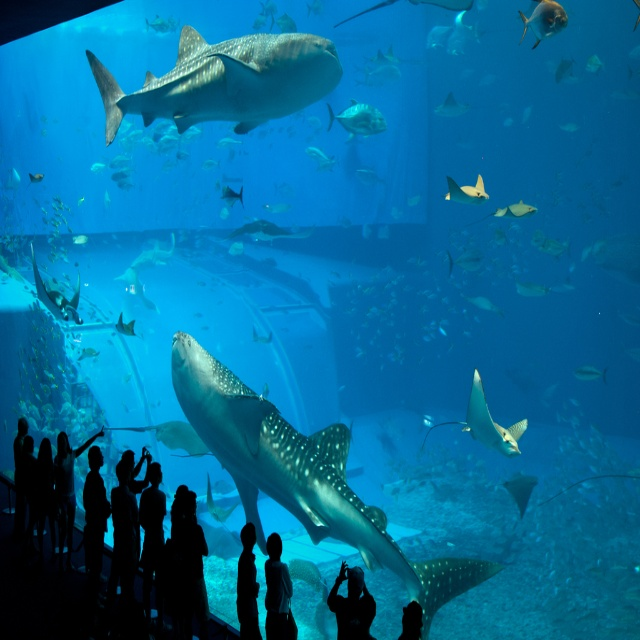Shark: (171, 327, 498, 636), (88, 21, 350, 148)
